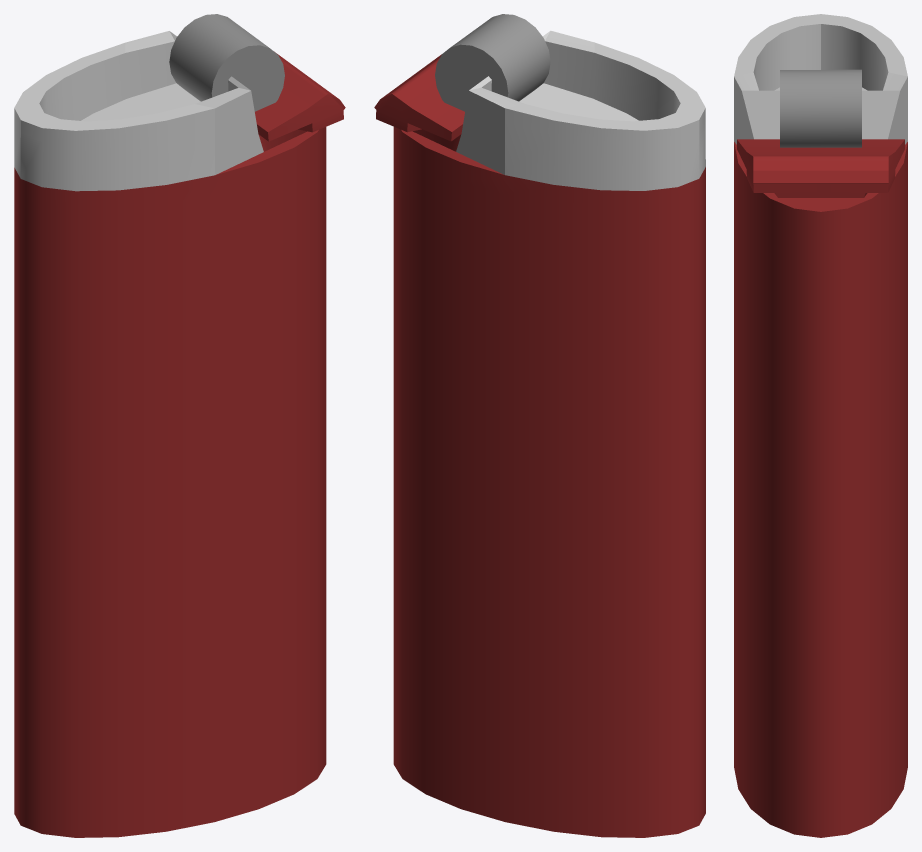
File: Lighter.fbx
3 renders of one model, left to right at view 1: azimuth 30°, elevation 25°; view 2: azimuth 150°, elevation 25°; view 3: azimuth 270°, elevation 25°, orthographic. The views are drawn at different scales.
Parts seen in each view (by area): view 1: pCylinder3; view 2: pCylinder3; view 3: pCylinder3.
Part boxes in pixels (<box>): pCylinder3: <box>14,14,345,837</box>; pCylinder3: <box>374,14,705,837</box>; pCylinder3: <box>734,14,907,837</box>.
Bounding box in the file's own units: 3.29 × 7.85 × 1.72.
